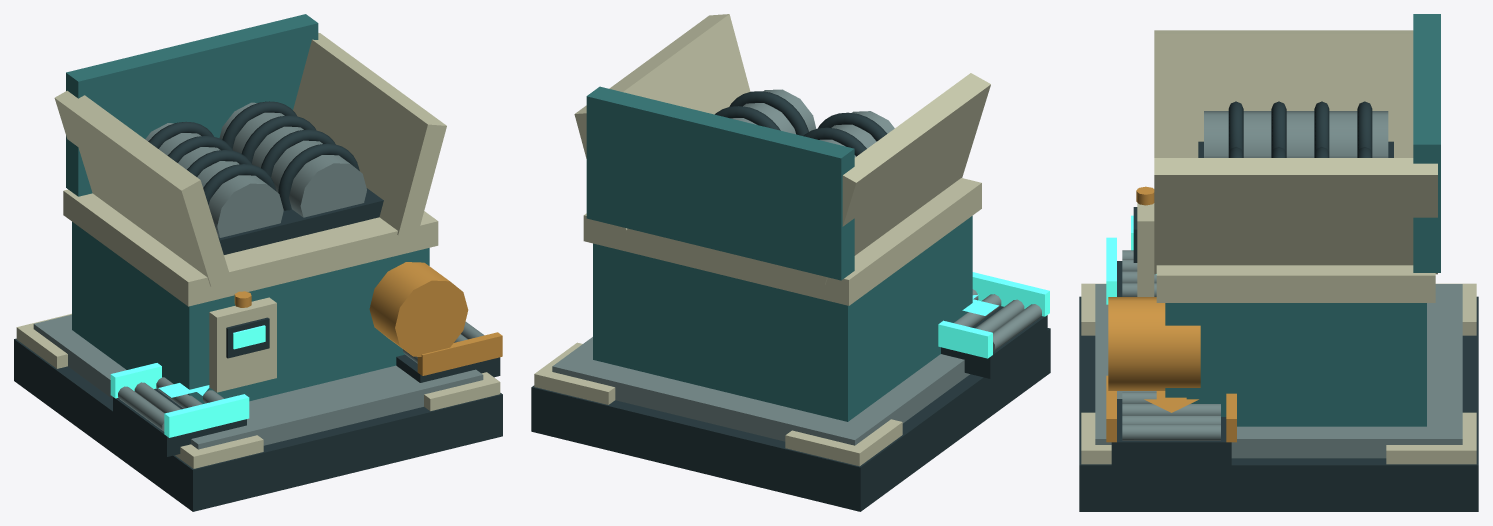
File: crusher.glb
3 views of the same model, side by side, from view 1: azimuth 30°, elevation 25°; view 2: azimuth 150°, elevation 25°; view 3: azimuth 270°, elevation 25° (orthographic). The views are drawn at different scales.
Parts seen in each view (by area): view 1: Batched static factory; view 2: Batched static factory; view 3: Batched static factory.
Boxes of the visible parts, x1,y1,x2,y2 form: Batched static factory: (14,14,502,511); Batched static factory: (531,14,1050,511); Batched static factory: (1079,14,1478,511).
Bounding box in the file's own units: 2 × 1.79 × 1.86.
